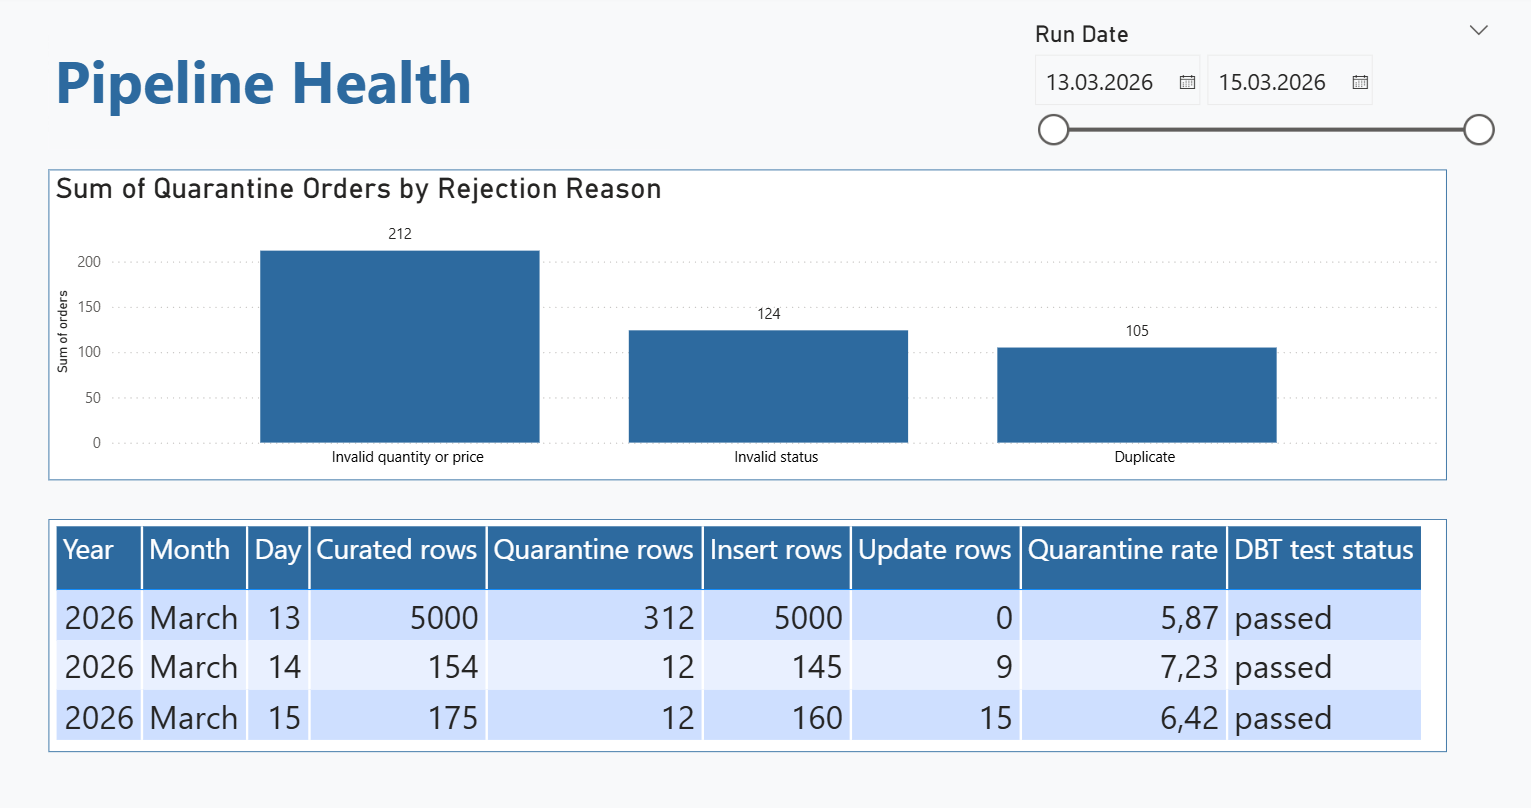

The page's visual inventory and layout, read from the dashboard file:
{"tool":"powerbi","page":{"name":" Pipeline Health","canvas":[1280,720],"ordinal":2},"visuals":[{"type":"textbox","box":[48,32,512,96],"z":0},{"type":"tableEx","fields":{"Values":["MART_DATA_QUALITY.RUN_DATE.Variation.Date Hierarchy.Year","MART_DATA_QUALITY.RUN_DATE.Variation.Date Hierarchy.Month","MART_DATA_QUALITY.RUN_DATE.Variation.Date Hierarchy.Day","Sum(MART_DATA_QUALITY.CURATED_ROWS)","Sum(MART_DATA_QUALITY.QUARANTINE_ROWS)","Sum(MART_DATA_QUALITY.INSERT_ROWS)","Sum(MART_DATA_QUALITY.UPDATE_ROWS)","Sum(MART_DATA_QUALITY.QUARANTINE_RATE_PCT)","MART_DATA_QUALITY.DBT_TEST_STATUS"]},"box":[48,432,1152,192],"z":1000},{"type":"clusteredColumnChart","title":"Sum of Quarantine Orders by  Rejection Reason","fields":{"Category":["Rejection Reasons.Rejection Reason"],"Y":["Sum(Rejection Reasons.Count)"]},"box":[48,144,1152,256],"z":2000},{"type":"slicer","fields":{"Values":["MART_DATA_QUALITY.RUN_DATE"]},"box":[848,16,400,160],"z":3000}]}

Visuals, with their boxes on the page's 1280x720 design canvas (x1, y1, x2, y2). These are canvas units, not pixel positions in the 1531x808 screenshot, which may show the page scaled, cropped or inside an application window:
textbox: region(48, 32, 560, 128)
tableEx - MART_DATA_QUALITY.RUN_DATE.Variation.Date Hierarchy.Year x MART_DATA_QUALITY.RUN_DATE.Variation.Date Hierarchy.Month: region(48, 432, 1200, 624)
"Sum of Quarantine Orders by  Rejection Reason" clusteredColumnChart: region(48, 144, 1200, 400)
slicer - MART_DATA_QUALITY.RUN_DATE: region(848, 16, 1248, 176)
